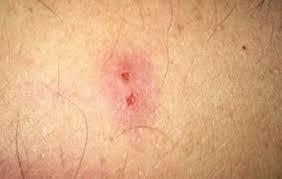Spider: (109, 55, 156, 131)
